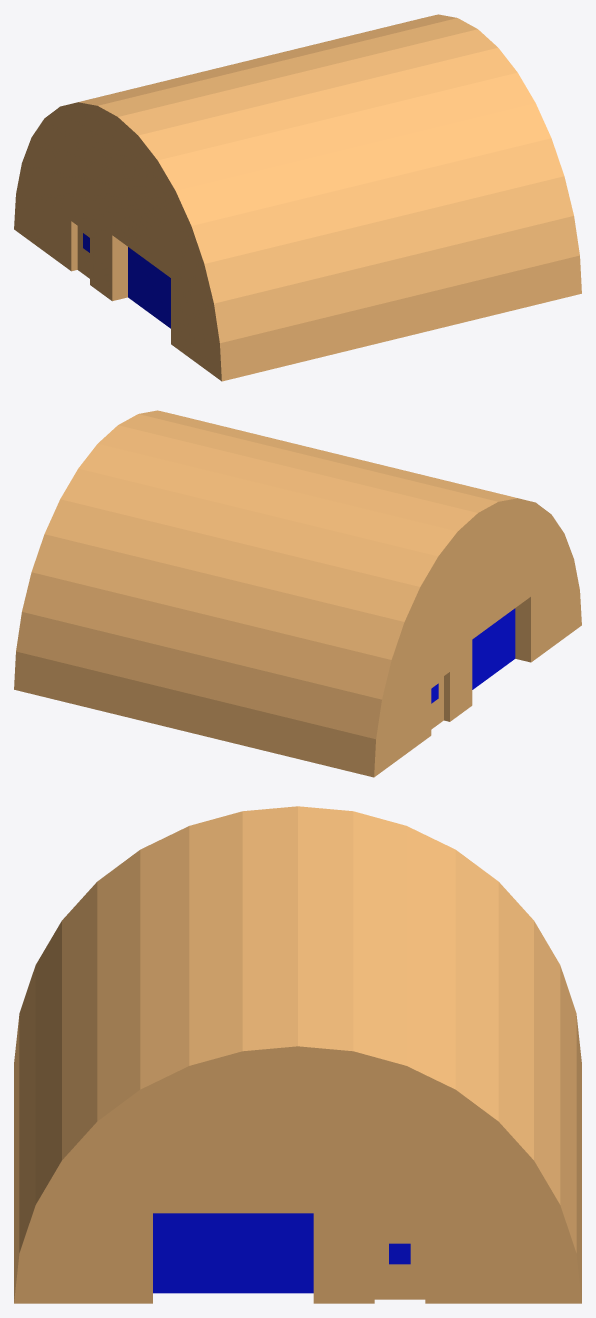
File: MilitaryBuilding_Desert.fbx
3 renders of one model, top to bottom at view 1: azimuth 30°, elevation 25°; view 2: azimuth 150°, elevation 25°; view 3: azimuth 270°, elevation 25°, orthographic. The views are drawn at different scales.
Parts seen in each view (by area): view 1: MilitaryBuidling_Desert; view 2: MilitaryBuidling_Desert; view 3: MilitaryBuidling_Desert.
Boxes of the visible parts, x1=… form: MilitaryBuidling_Desert: x1=14, y1=14, x2=581, y2=381; MilitaryBuidling_Desert: x1=14, y1=410, x2=581, y2=777; MilitaryBuidling_Desert: x1=14, y1=806, x2=581, y2=1303.
Size of the model in its own units: 1000 by 500 by 1000.
